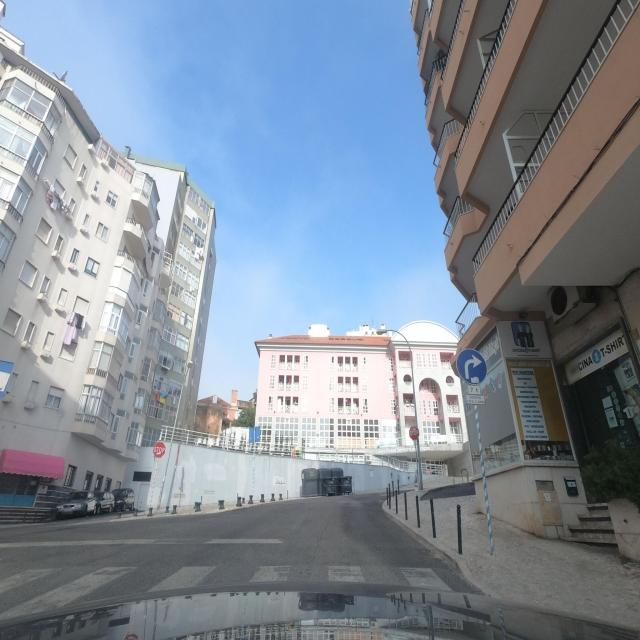car: (55, 490, 99, 520), (111, 487, 136, 512), (93, 489, 115, 515)
